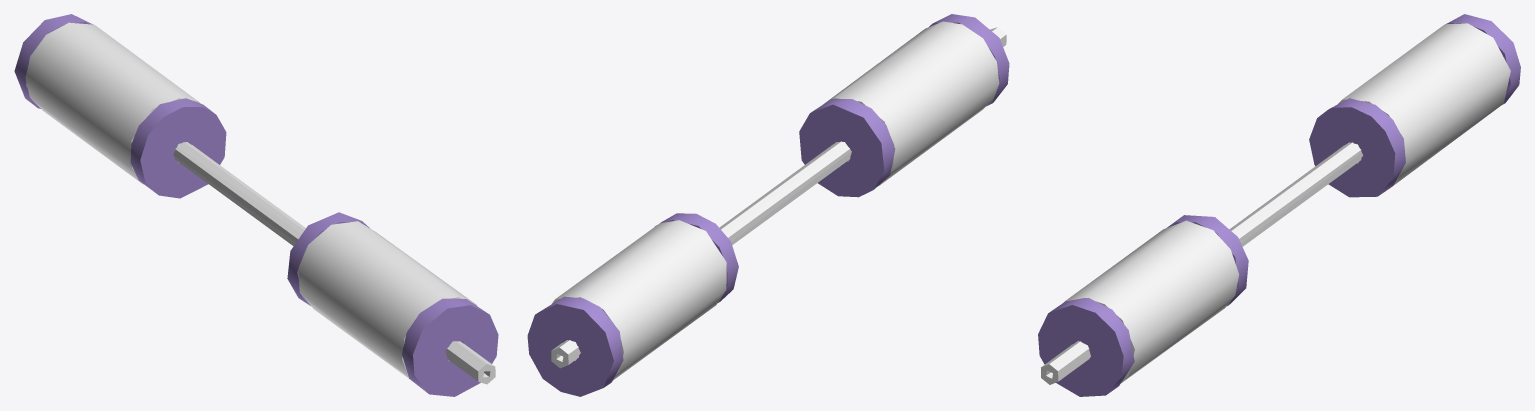
File: ShooterRoller.dae
The picture shows the model from 3 angles, left to right: view 1: azimuth 30°, elevation 25°; view 2: azimuth 150°, elevation 25°; view 3: azimuth 330°, elevation 25°; orthographic projection.
Parts seen in each view (by area): view 1: ShooterRoller; view 2: ShooterRoller; view 3: ShooterRoller.
Part boxes in pixels (x1=…): ShooterRoller: x1=14, y1=14, x2=498, y2=396; ShooterRoller: x1=527, y1=14, x2=1009, y2=396; ShooterRoller: x1=1038, y1=14, x2=1520, y2=396.
Size of the model in its own units: 0.0615 by 0.5334 by 0.0614.
